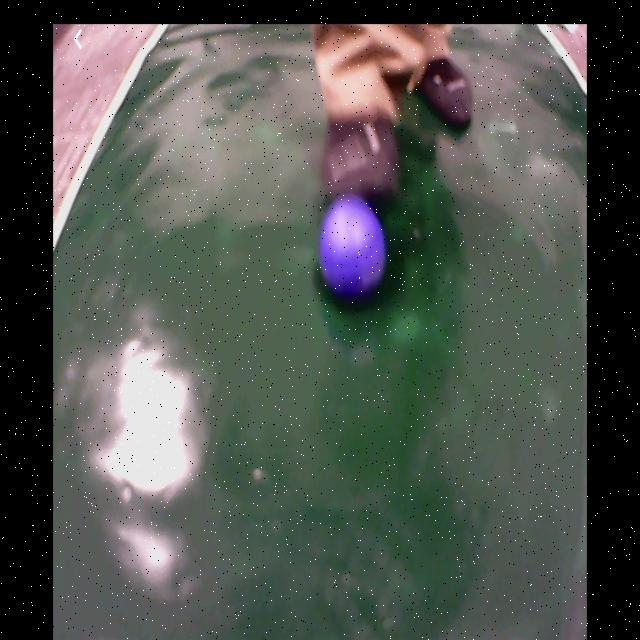ball: (319, 196, 386, 295)
